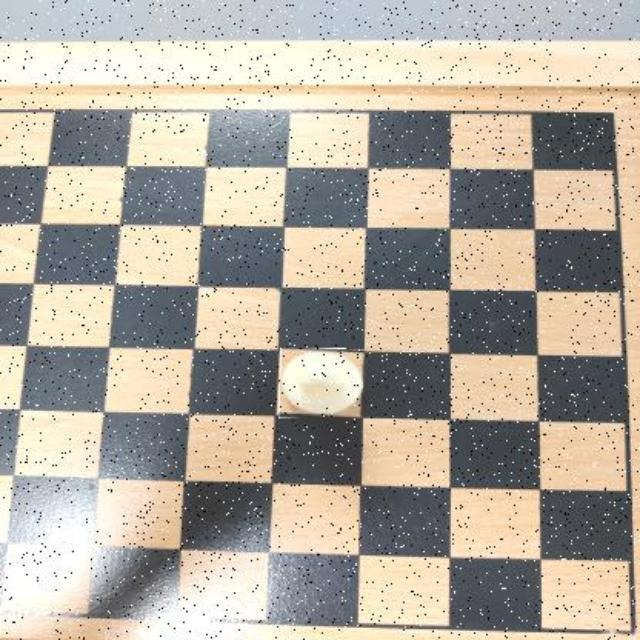white-king: (281, 349, 367, 421)
